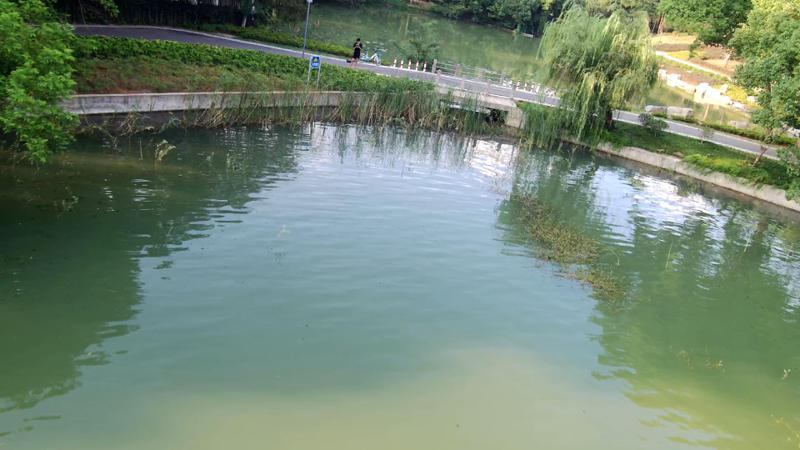passerby: (348, 37, 363, 71)
